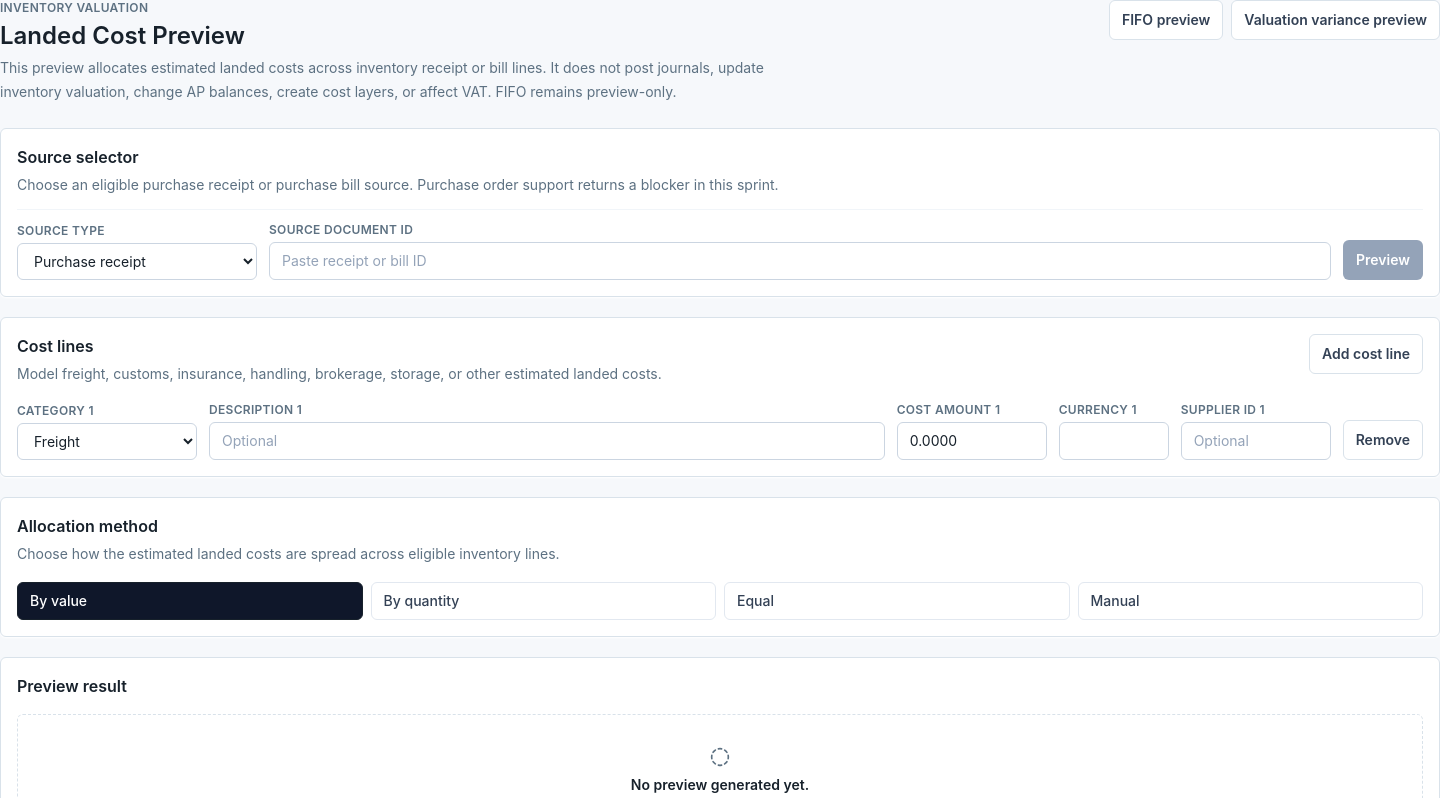
Test: LandedCostPreviewPage › hides source document links when the role lacks the source permission
In the field labelled "Source document ID": (800, 261) left=269, top=242, right=1331, bottom=280, type "receipt-1"
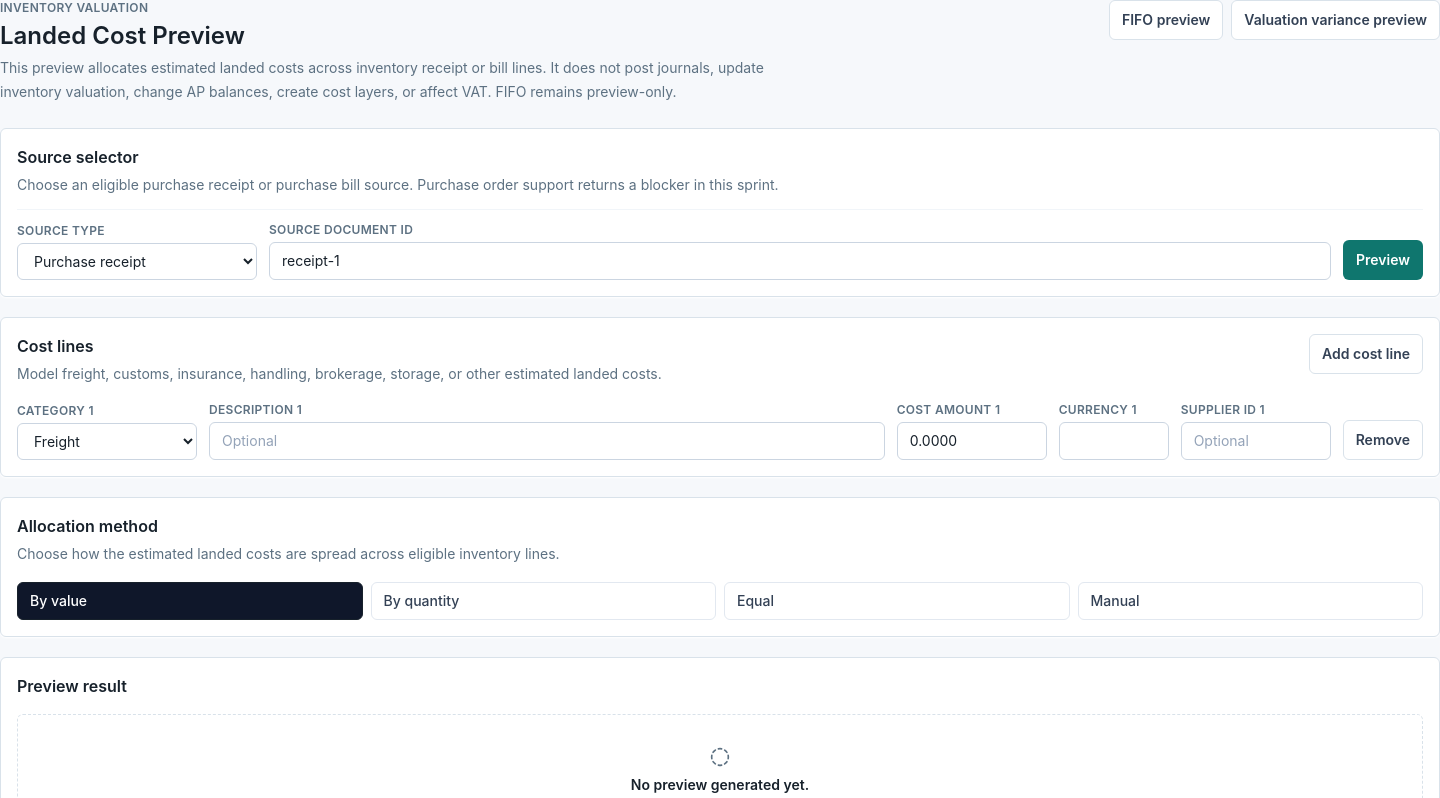
Click the button "Preview": click(1383, 260) left=1343, top=240, right=1423, bottom=280
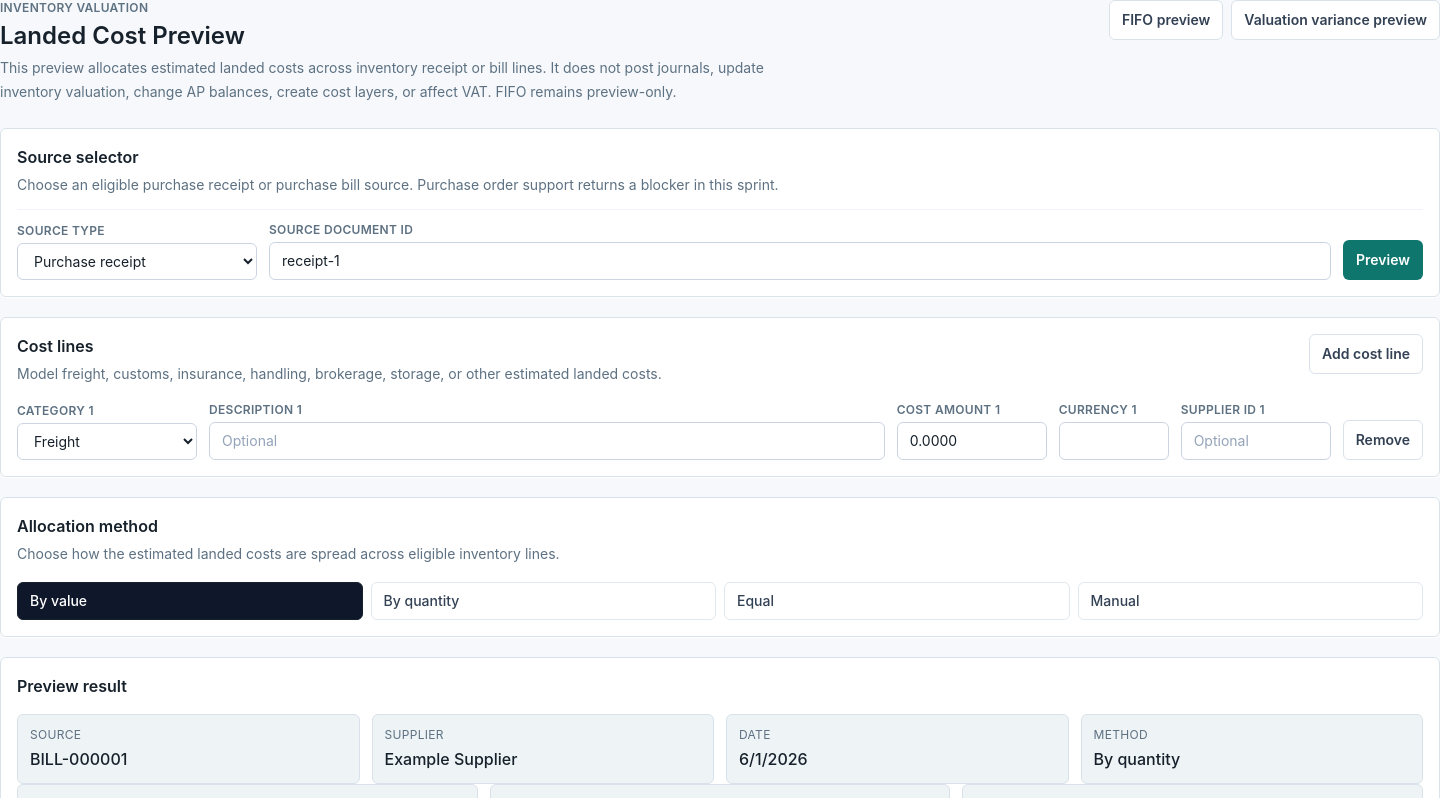
Result: the text "BILL-000001" is shown at left=30, top=749, right=127, bottom=769
